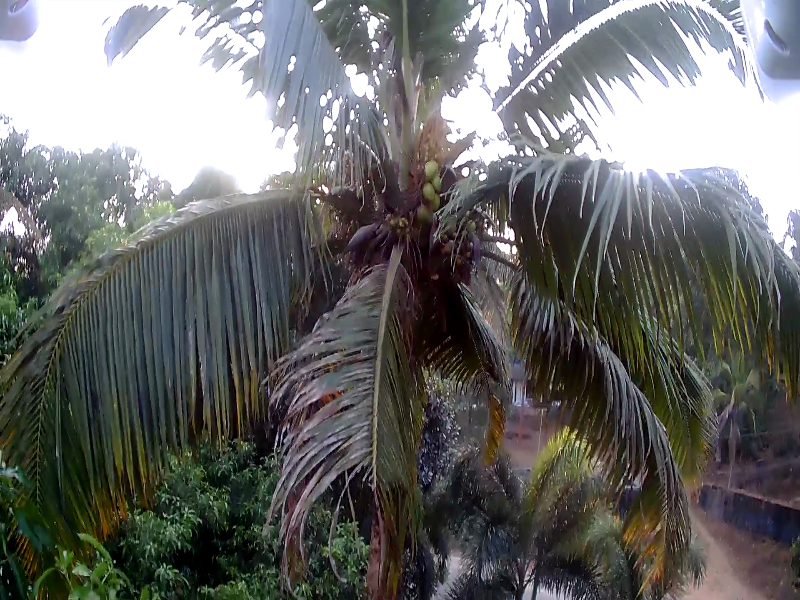coconut: (388, 216, 405, 234), (421, 183, 434, 200), (432, 175, 443, 191), (416, 207, 428, 220), (467, 216, 476, 233), (424, 165, 438, 174)
